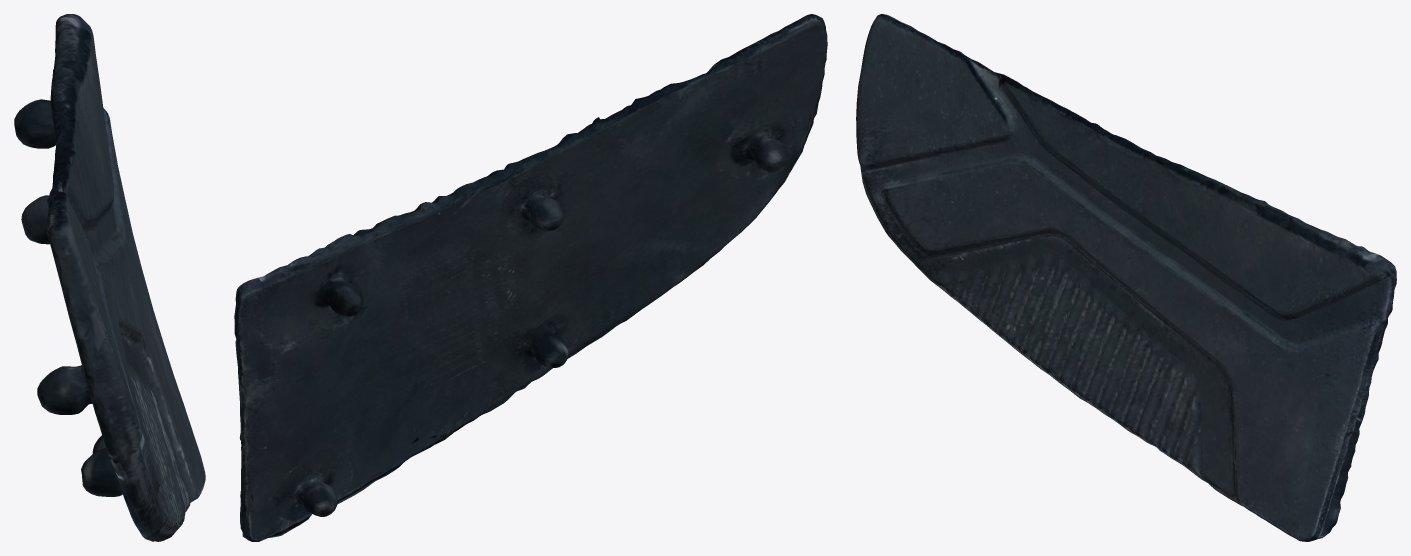
The model's file is SPD-10260X-B.obj.
3 renders of one model, left to right at view 1: azimuth 30°, elevation 25°; view 2: azimuth 150°, elevation 25°; view 3: azimuth 270°, elevation 25°, orthographic. The views are drawn at different scales.
Visible parts, largest first — view 1: SPD-10260X-B; view 2: SPD-10260X-B; view 3: SPD-10260X-B.
Part boxes in pixels (x1,y1,x2,y2): SPD-10260X-B: (14,14,205,541); SPD-10260X-B: (234,14,827,541); SPD-10260X-B: (856,14,1396,541).
Size of the model in its own units: 107 by 129 by 163.
1 material, 1 textured.
